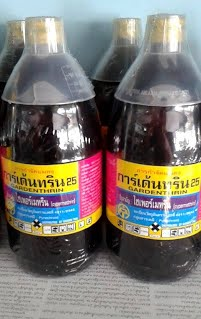Insecticide: (1, 13, 105, 280), (103, 12, 201, 287)
